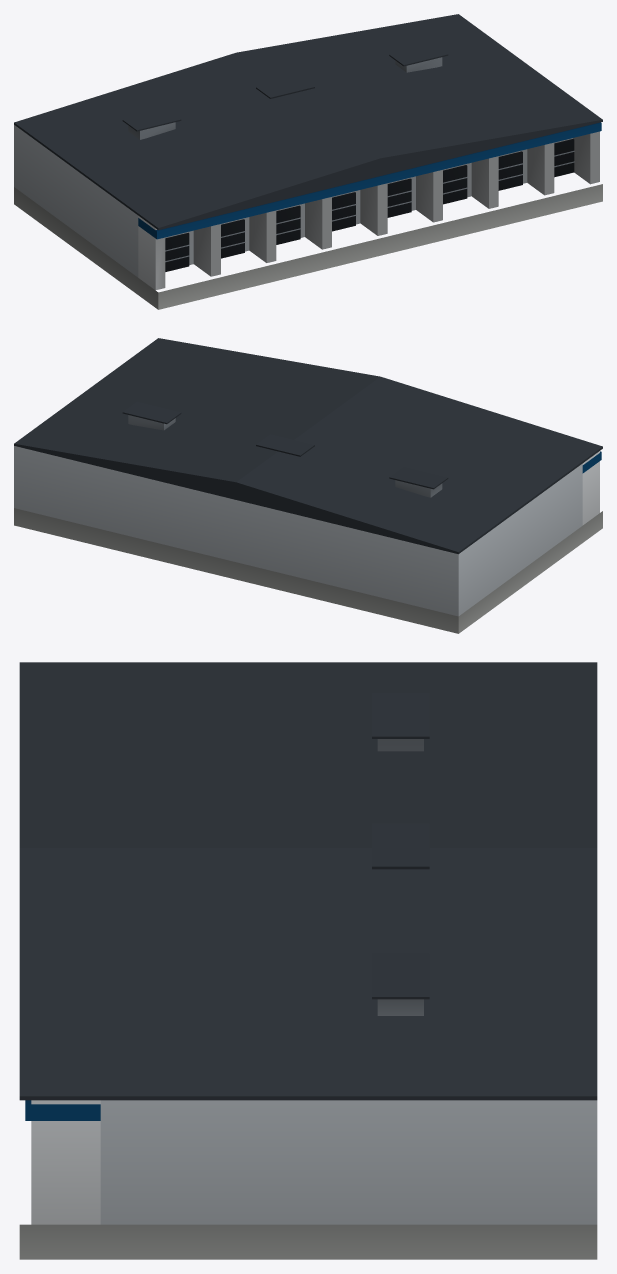
File: automotive-hub.glb
The picture shows the model from 3 angles, top to bottom: view 1: azimuth 30°, elevation 25°; view 2: azimuth 150°, elevation 25°; view 3: azimuth 270°, elevation 25°; orthographic projection. The views are drawn at different scales.
Parts seen in each view (by area): view 1: automotive-hub; view 2: automotive-hub; view 3: automotive-hub.
Boxes of the visible parts, bbox=[...] form: automotive-hub: bbox=[14, 14, 602, 309]; automotive-hub: bbox=[14, 338, 602, 633]; automotive-hub: bbox=[19, 662, 597, 1259].
Size of the model in its own units: 80 by 17 by 45.
